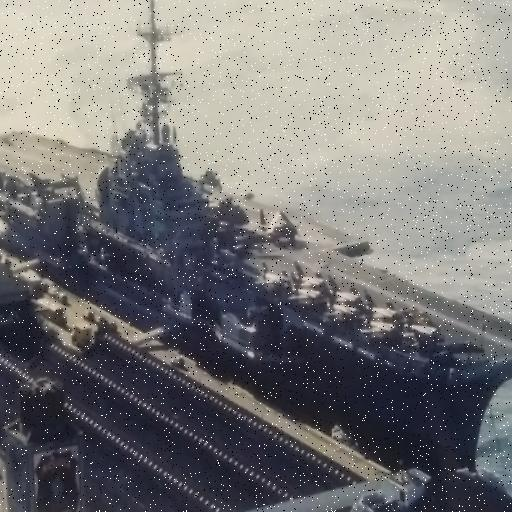Portanaves: (1, 1, 512, 473)
